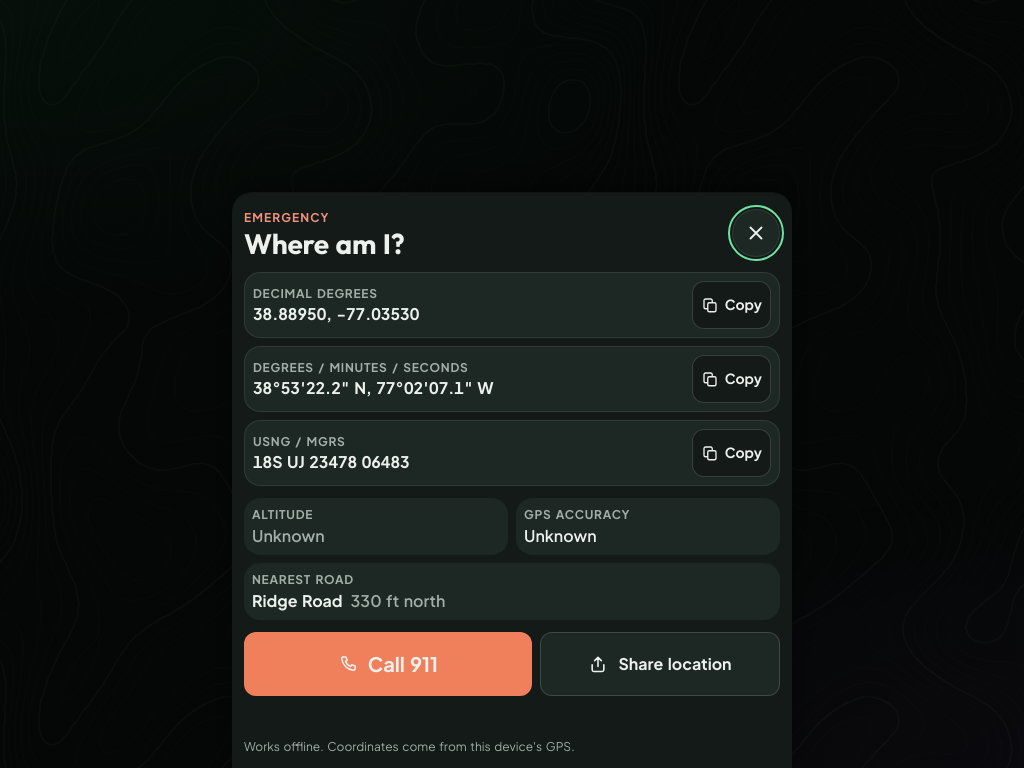
Test case: EmergencyCard — copy and share › says plainly when the clipboard is unavailable
Click the button with aria-label "Copy Decimal degrees": [731, 305] box [692,281,771,329]
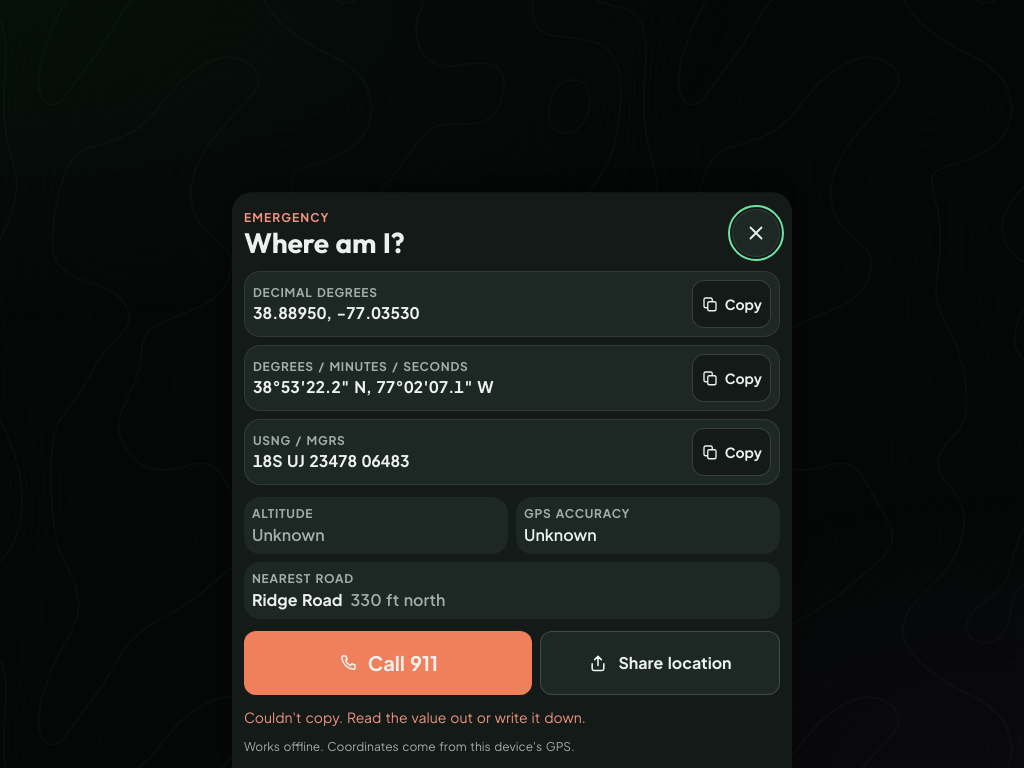
Expected: the message with test id "emergency-status" shows "Couldn't copy", [244,708,586,726]
